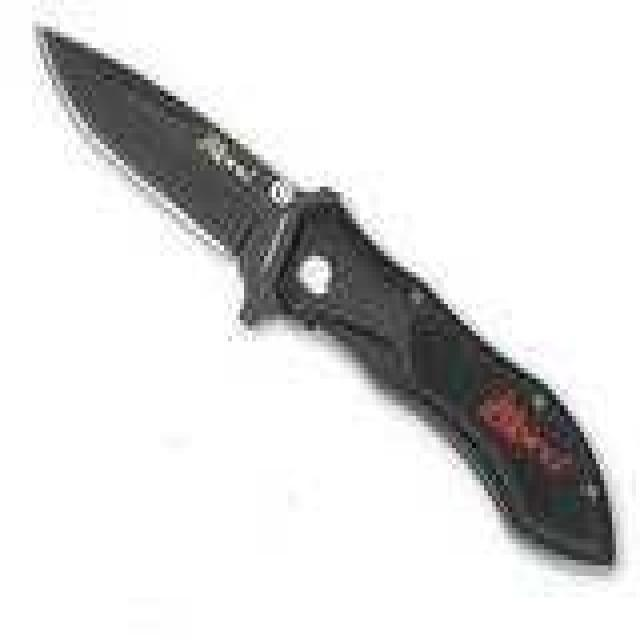Knife: (32, 20, 624, 590)
